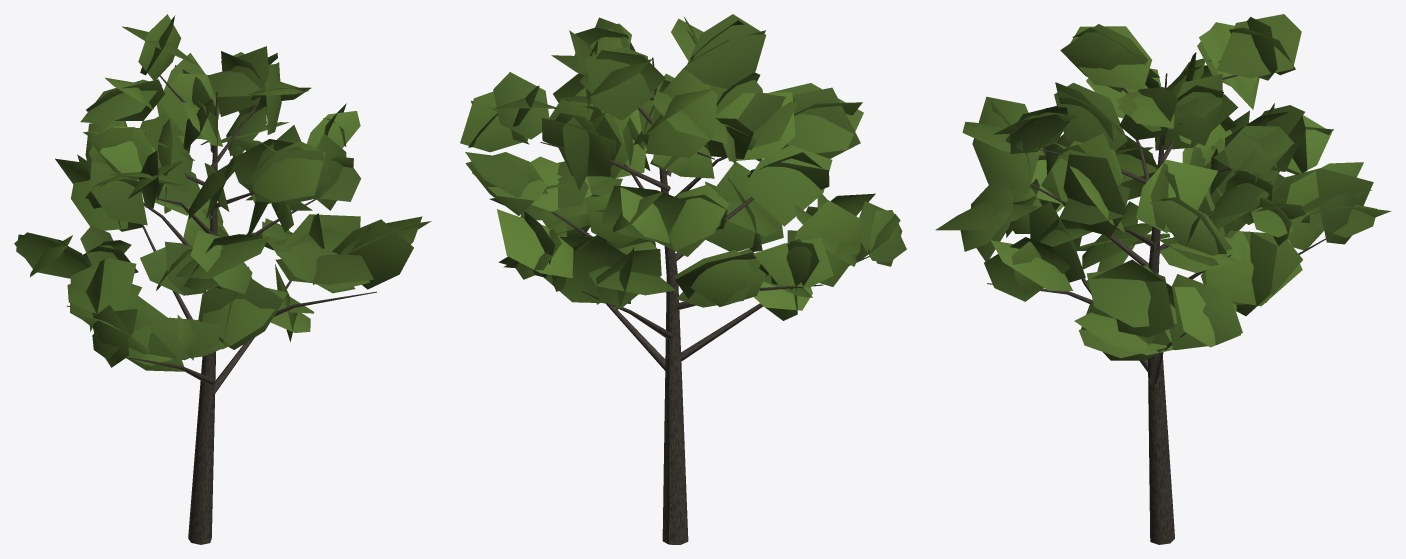
The model's file is spreading_03_lod2.glb.
The picture shows the model from 3 angles, left to right: view 1: azimuth 30°, elevation 25°; view 2: azimuth 150°, elevation 25°; view 3: azimuth 270°, elevation 25°; orthographic projection. The views are drawn at different scales.
Visible parts, largest first — view 1: individual_curved_leaf_sprigs, retained_branches_0; view 2: individual_curved_leaf_sprigs, retained_branches_0; view 3: individual_curved_leaf_sprigs, retained_branches_0.
Part boxes in pixels (left/top/right/bottom): individual_curved_leaf_sprigs: left=14, top=14, right=431, bottom=371; retained_branches_0: left=66, top=74, right=376, bottom=544; individual_curved_leaf_sprigs: left=460, top=14, right=906, bottom=320; retained_branches_0: left=540, top=57, right=869, bottom=544; individual_curved_leaf_sprigs: left=935, top=14, right=1391, bottom=360; retained_branches_0: left=987, top=73, right=1325, bottom=544.
Bounding box in the file's own units: 7.2 × 9.98 × 7.91.
2 materials, 1 textured.
